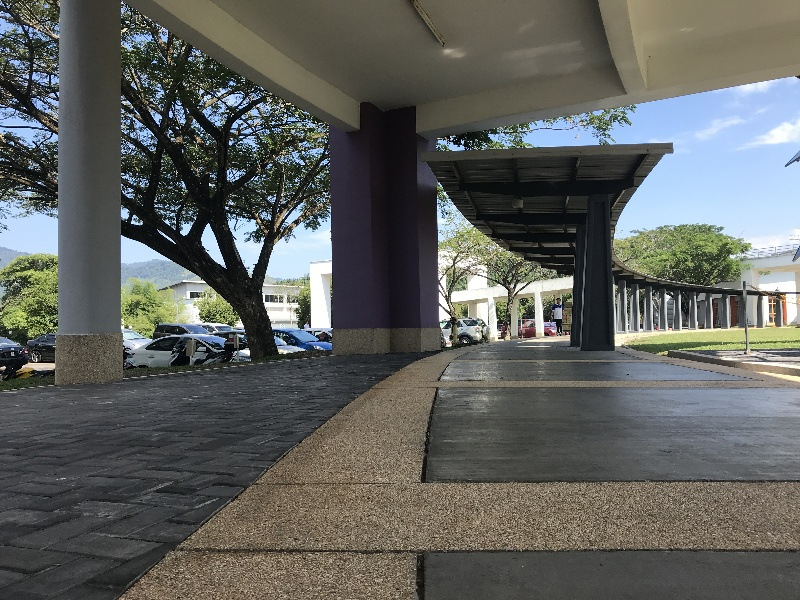pillar: (314, 90, 451, 362), (47, 2, 134, 398), (573, 189, 624, 360)
